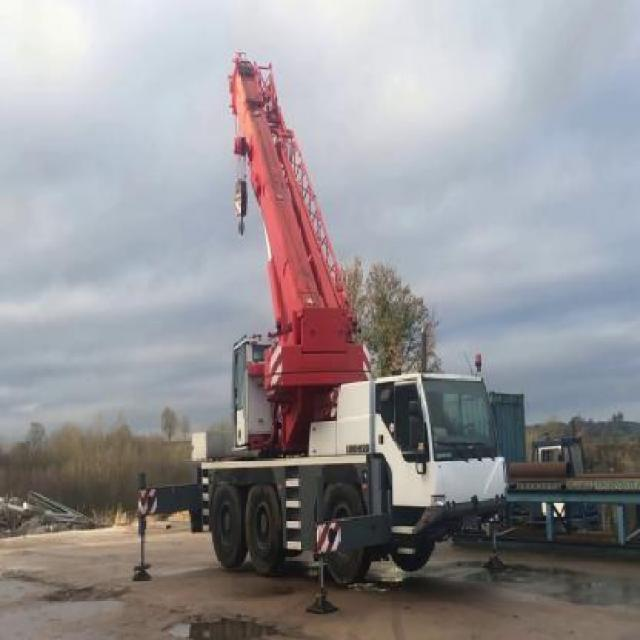Mobile Crane: (132, 52, 506, 616)
